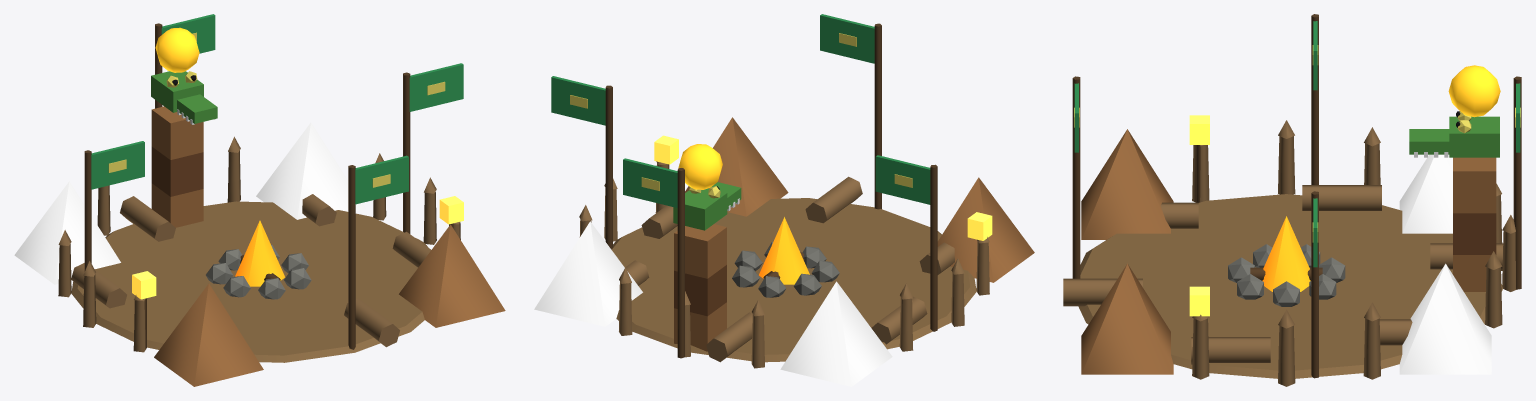
File: goblin-level5.glb
3 views of the same model, side by side, from view 1: azimuth 30°, elevation 25°; view 2: azimuth 150°, elevation 25°; view 3: azimuth 270°, elevation 25° (orthographic). The views are drawn at different scales.
Parts seen in each view (by area): view 1: object 1, object 70, object 71, object 20, object 19, object 27, object 26, object 46, object 74, object 43, flame, object 25 (+24 smaller); view 2: object 1, object 19, object 20, object 70, object 71, object 27, object 43, object 77, object 46, object 74, flame, object 26 (+23 smaller); view 3: object 1, object 71, object 20, object 70, object 19, object 27, flame, object 72, object 16, object 28, object 26, object 13 (+25 smaller).
Part boxes in pixels (bbox=[...]): object 1: bbox=[71, 201, 427, 362]; object 70: bbox=[154, 283, 263, 386]; object 71: bbox=[399, 224, 505, 327]; object 20: bbox=[256, 122, 365, 219]; object 19: bbox=[14, 181, 120, 284]; object 27: bbox=[151, 106, 203, 159]; object 26: bbox=[151, 146, 203, 196]; object 46: bbox=[409, 63, 463, 111]; object 74: bbox=[355, 155, 408, 204]; object 43: bbox=[91, 141, 144, 189]; flame: bbox=[235, 220, 285, 286]; object 25: bbox=[151, 183, 203, 227]; object 1: bbox=[611, 198, 976, 362]; object 19: bbox=[780, 281, 892, 386]; object 20: bbox=[534, 221, 642, 326]; object 70: bbox=[937, 177, 1034, 282]; object 71: bbox=[685, 117, 788, 216]; object 27: bbox=[674, 224, 726, 278]; object 43: bbox=[875, 155, 930, 204]; object 77: bbox=[623, 158, 677, 207]; object 46: bbox=[551, 76, 605, 125]; object 74: bbox=[820, 14, 874, 63]; flame: bbox=[759, 217, 809, 284]; object 26: bbox=[674, 265, 726, 316]; object 1: bbox=[1078, 194, 1502, 378]; object 71: bbox=[1081, 263, 1173, 374]; object 20: bbox=[1399, 263, 1491, 374]; object 70: bbox=[1081, 129, 1173, 239]; object 19: bbox=[1399, 154, 1452, 233]; object 27: bbox=[1453, 157, 1496, 213]; flame: bbox=[1262, 216, 1310, 291]; object 72: bbox=[1448, 65, 1500, 117]; object 16: bbox=[1302, 185, 1381, 210]; object 28: bbox=[1449, 116, 1499, 157]; object 26: bbox=[1453, 213, 1496, 254]; object 13: bbox=[1191, 337, 1270, 364].
Bounding box in the file's own units: 4 × 1.9 × 3.55.
